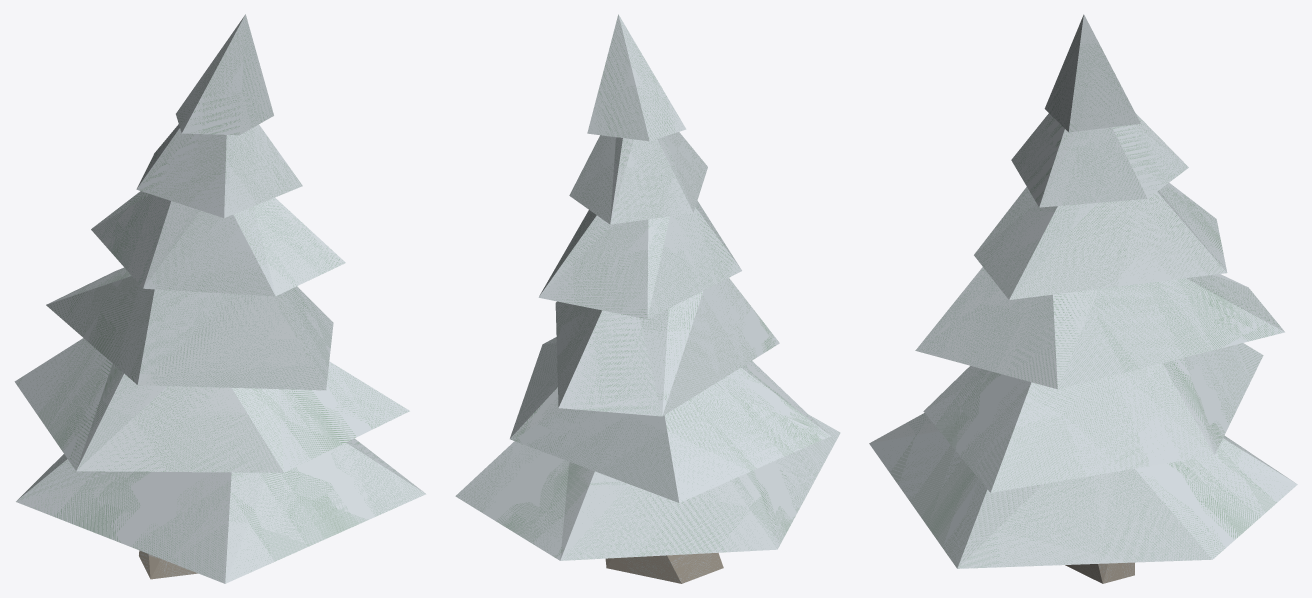
File: Tree.dae
The picture shows the model from 3 angles, left to right: view 1: azimuth 30°, elevation 25°; view 2: azimuth 150°, elevation 25°; view 3: azimuth 270°, elevation 25°; orthographic projection. The views are drawn at different scales.
Parts seen in each view (by area): view 1: SketchUp_110, _05_Tree_Compressed, SketchUp_107, SketchUp_108, SketchUp_103, SketchUp_112, SketchUp_106; view 2: _05_Tree_Compressed, SketchUp_110, SketchUp_107, SketchUp_108, SketchUp_103, SketchUp_112, SketchUp_106; view 3: _05_Tree_Compressed, SketchUp_110, SketchUp_107, SketchUp_108, SketchUp_103, SketchUp_112, SketchUp_106.
Part boxes in pixels (left/top/right/bottom): SketchUp_110: left=14, top=338, right=409, bottom=472; _05_Tree_Compressed: left=16, top=438, right=426, bottom=583; SketchUp_107: left=46, top=267, right=333, bottom=390; SketchUp_108: left=91, top=191, right=345, bottom=296; SketchUp_103: left=136, top=124, right=302, bottom=217; SketchUp_112: left=176, top=14, right=273, bottom=135; SketchUp_106: left=139, top=550, right=197, bottom=579; _05_Tree_Compressed: left=455, top=415, right=840, bottom=560; SketchUp_110: left=510, top=337, right=830, bottom=502; SketchUp_107: left=555, top=278, right=779, bottom=416; SketchUp_108: left=538, top=201, right=741, bottom=319; SketchUp_103: left=569, top=132, right=707, bottom=224; SketchUp_112: left=587, top=14, right=686, bottom=141; SketchUp_106: left=605, top=552, right=723, bottom=583; _05_Tree_Compressed: left=869, top=413, right=1297, bottom=568; SketchUp_110: left=923, top=343, right=1263, bottom=492; SketchUp_107: left=915, top=267, right=1284, bottom=389; SketchUp_108: left=974, top=182, right=1227, bottom=299; SketchUp_103: left=1011, top=113, right=1188, bottom=207; SketchUp_112: left=1044, top=14, right=1140, bottom=132; SketchUp_106: left=1065, top=562, right=1134, bottom=583.
Size of the model in its own units: 2.6 by 2.89 by 4.21.
